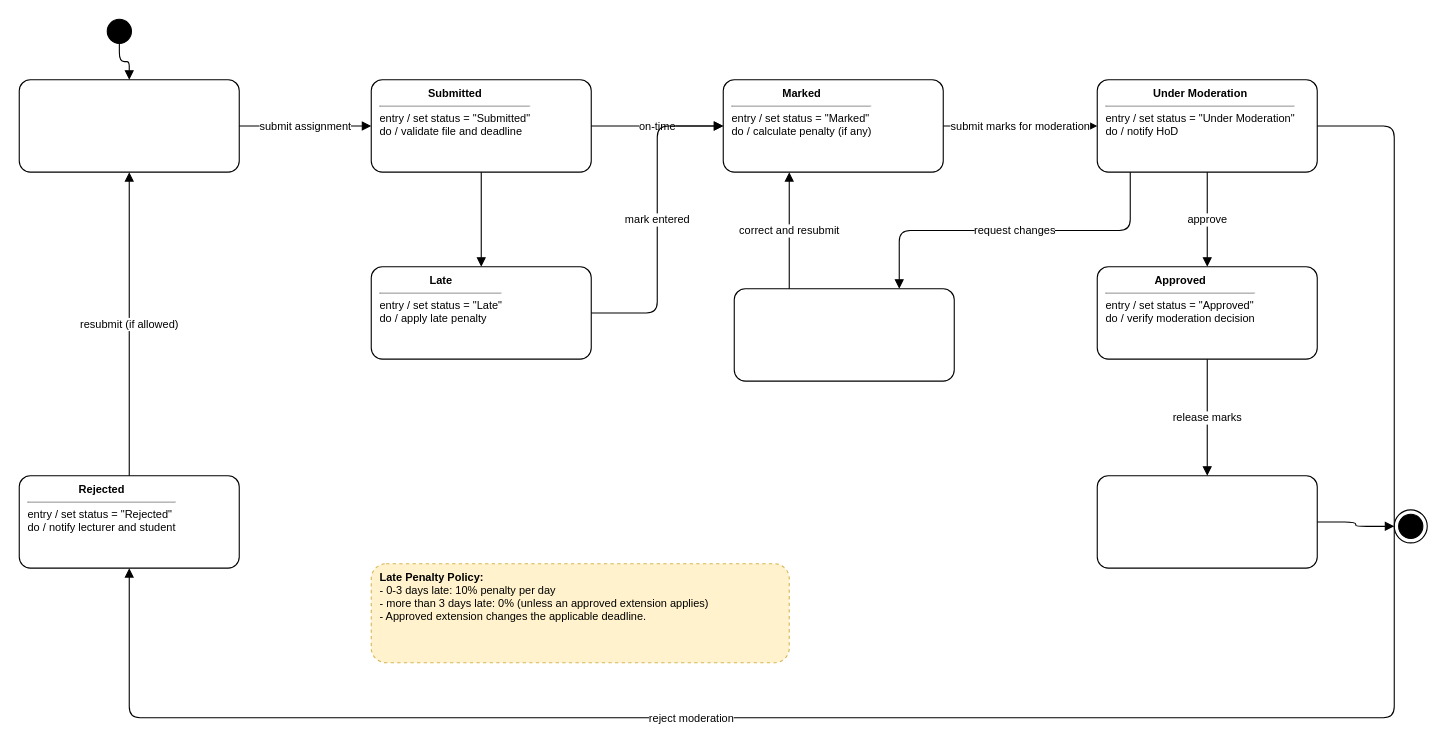
Image size: 1447x746. Some labels were removed from this diagram. The shapes that lost their labels are listed below. From the top down, each one's centre as x and y in pixels, then its label:
[128,125]: Not Submitted entry / set status = "Not Submitted"
[843,334]: Changes Requested entry / set status = "Changes Requested" do / notify lecturer
[1206,521]: Released entry / set status = "Released" do / make marks visible to student
